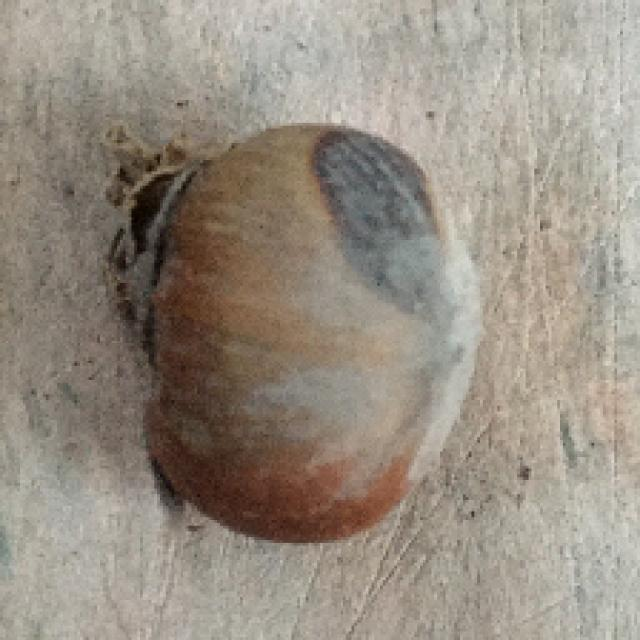damagedHazelnut: (117, 108, 498, 545)
